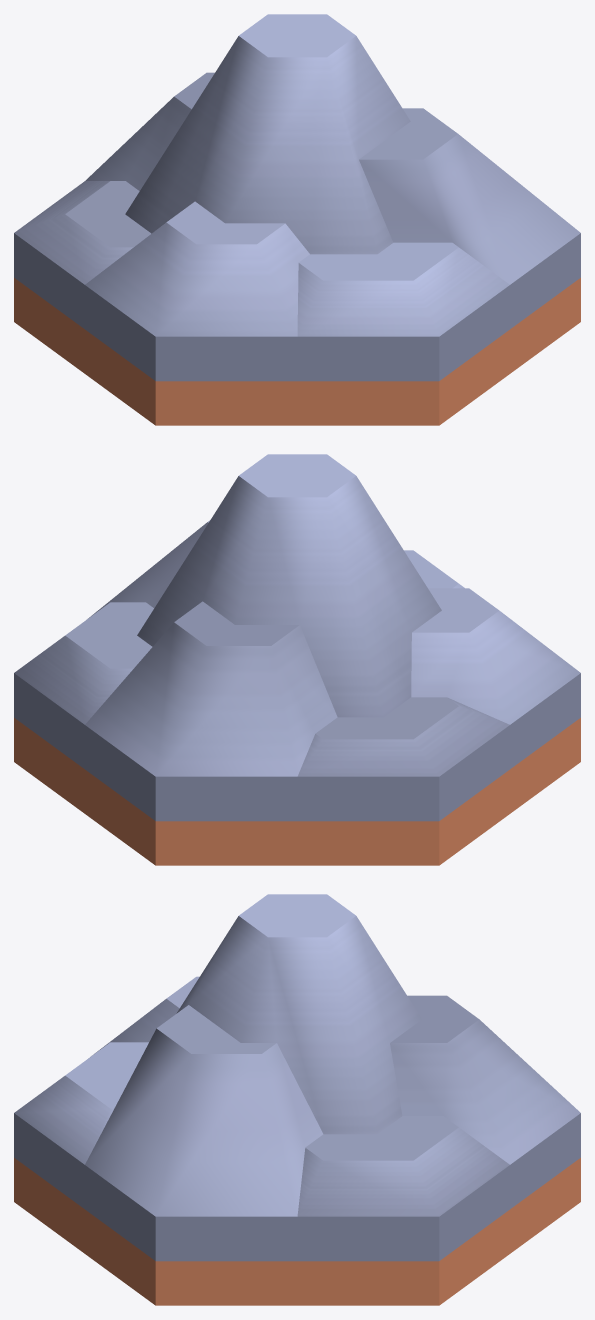
File: stone-hill.fbx
3 renders of one model, top to bottom at view 1: azimuth 30°, elevation 25°; view 2: azimuth 150°, elevation 25°; view 3: azimuth 270°, elevation 25°, orthographic.
Visible parts, largest first — view 1: stone_hill; view 2: stone_hill; view 3: stone_hill.
Boxes of the visible parts, <box> form: stone_hill: <box>14,14,580,425</box>; stone_hill: <box>14,454,580,865</box>; stone_hill: <box>14,894,580,1305</box>.
Size of the model in its own units: 100 by 64.32 by 115.
1 material, 1 textured.
